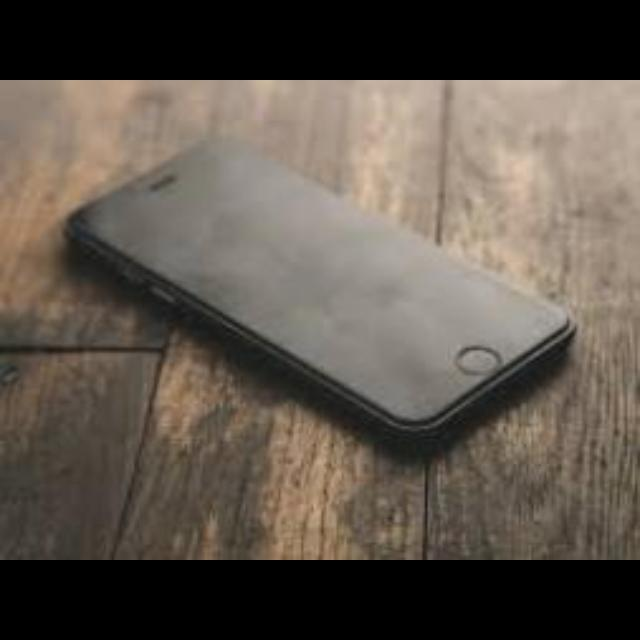Phone: (53, 137, 574, 443)
